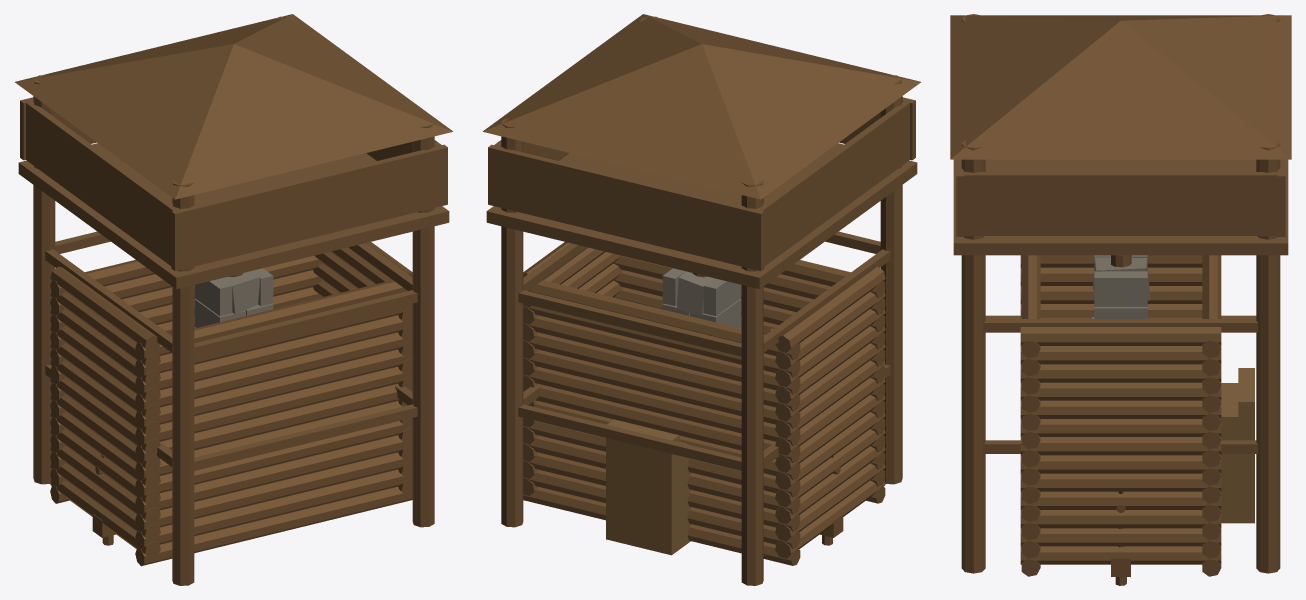
The model's file is fortifications.glb.
3 views of the same model, side by side, from view 1: azimuth 30°, elevation 25°; view 2: azimuth 150°, elevation 25°; view 3: azimuth 270°, elevation 25° (orthographic). The views are drawn at different scales.
Visible parts, largest first — view 1: tower, chamber-box, chamber-face; view 2: tower, chamber-box, walk-steps, chamber-face; view 3: tower, chamber-box, walk-steps, chamber-face.
Boxes of the visible parts, <box> form: tower: <box>15,14,453,585</box>; chamber-box: <box>50,242,412,566</box>; chamber-face: <box>194,268,273,328</box>; tower: <box>482,14,920,585</box>; chamber-box: <box>523,242,885,565</box>; walk-steps: <box>606,419,691,555</box>; chamber-face: <box>662,268,741,328</box>; tower: <box>950,14,1291,573</box>; chamber-box: <box>1020,255,1221,576</box>; walk-steps: <box>1221,368,1254,523</box>; chamber-face: <box>1092,255,1149,318</box>.
Bounding box in the file's own units: 5.1 × 8.4 × 5.1.
